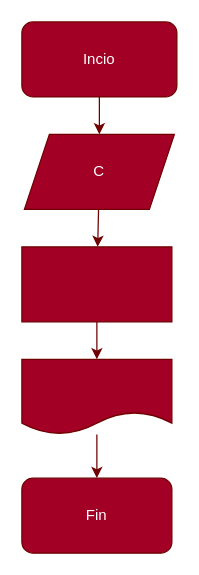
The diagram is 199 pixels wide and 575 high, and some of its shapes have lost their labels. The centre of each missing label's shape, as x and y in pixels:
"F , K" goes at point 96,396.
"F = 9/5 C + 32 K = 273.15 +C" goes at point 96,284.
